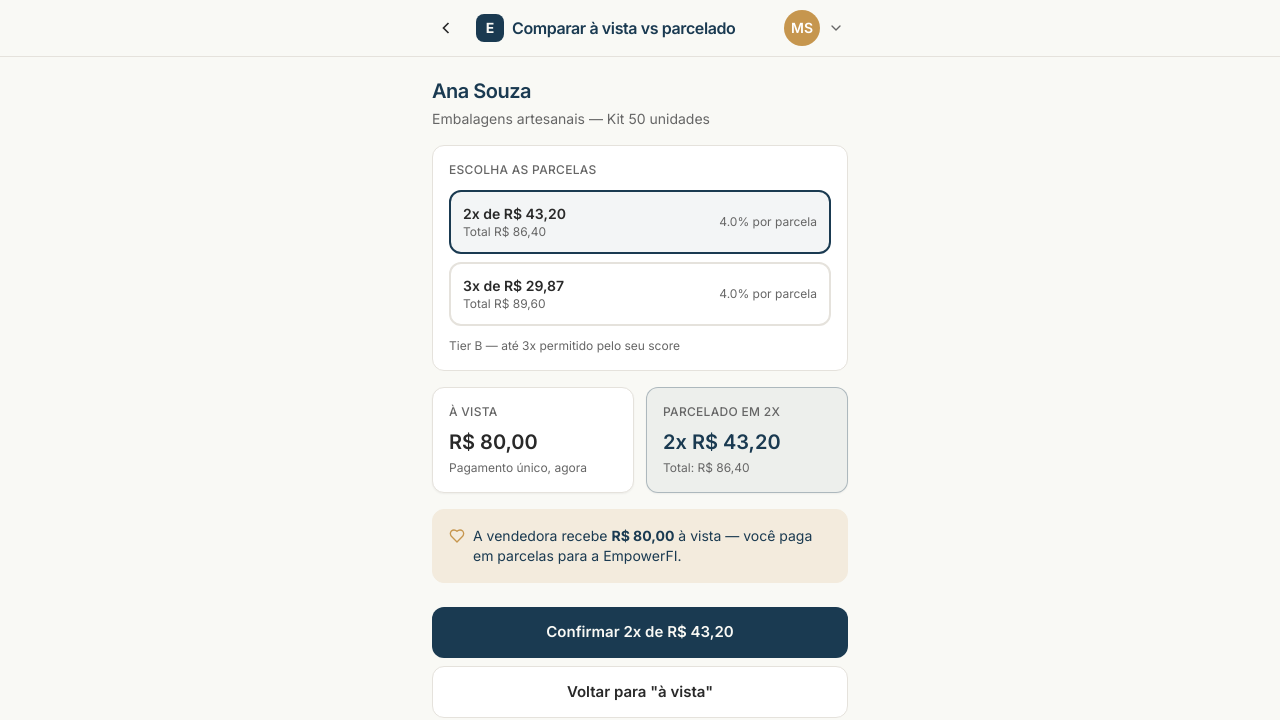
<BnplComparePage /> › lets the buyer switch to 3x and reflects it in the confirm button
The width and height of the screenshot is (1280, 720).
Check: the text "Tier B — até 3x permitido pelo seu score" is shown, box [449,338,680,353]
Click the button "3x de R$ 29,87 Total R$ 89,60 4.0% por parcela": click(534, 286) [449,262,831,326]
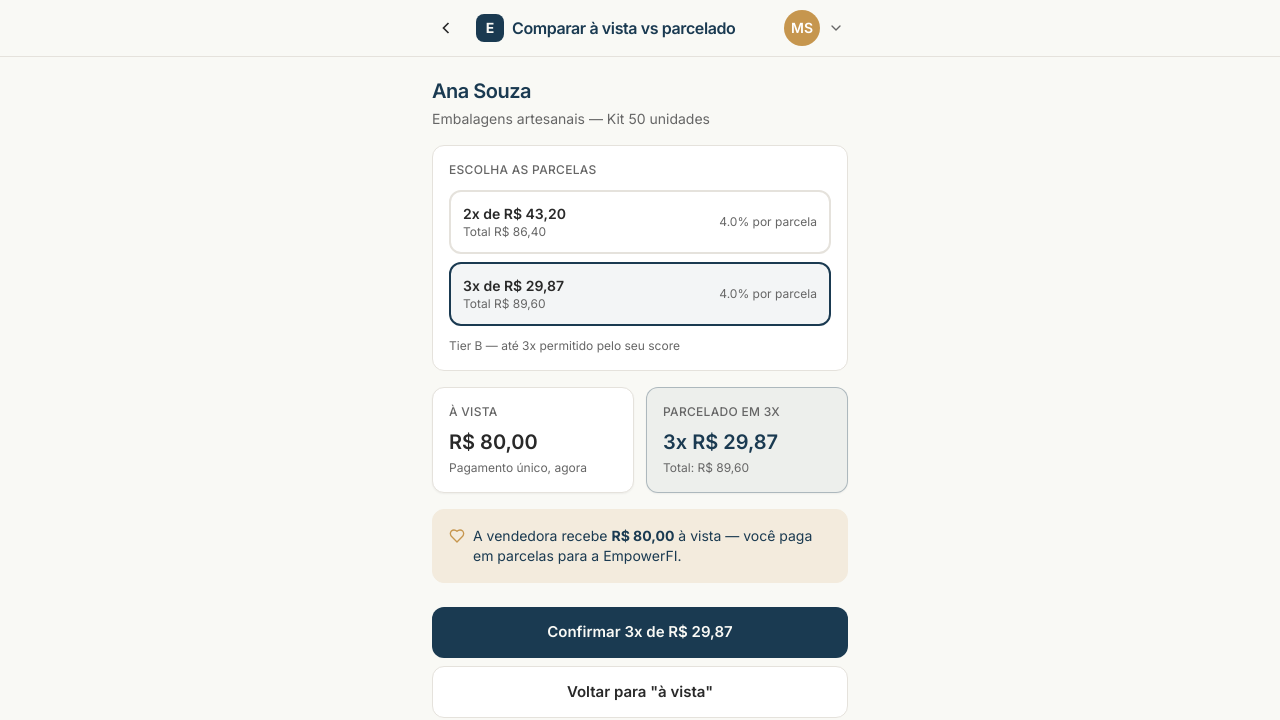
Check: the button "Confirmar 3x de R$ 29,87" is shown, box [432,607,848,658]
